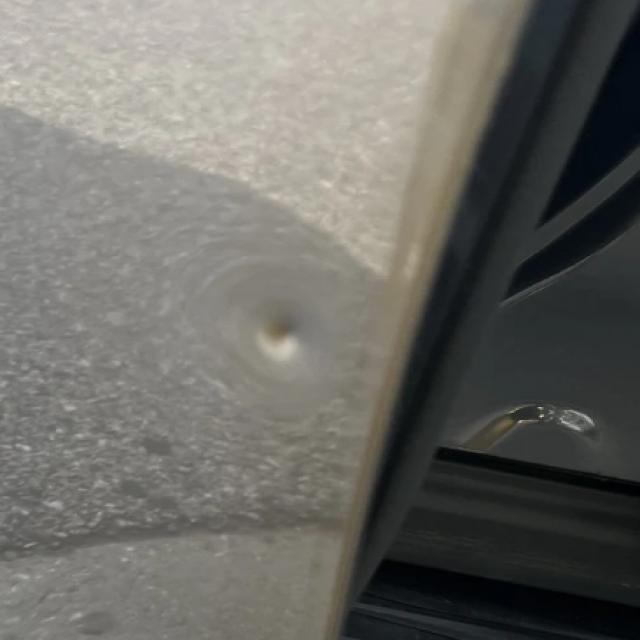dents: (249, 291, 353, 389)
